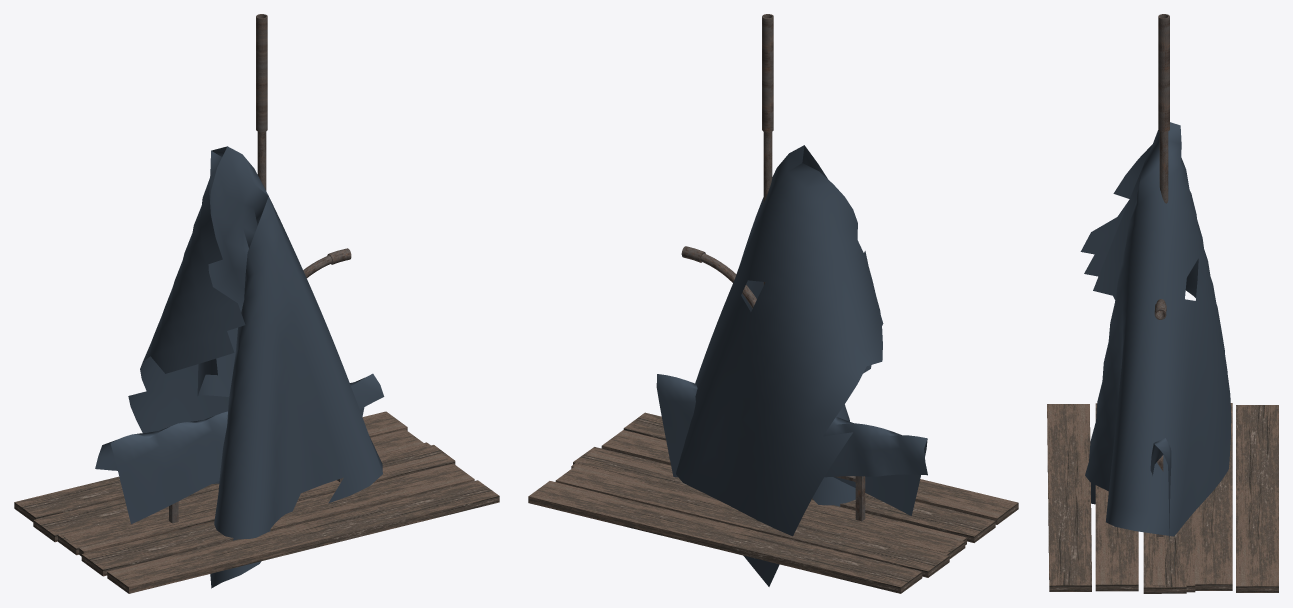
The model's file is Structured tower.fbx.
3 renders of one model, left to right at view 1: azimuth 30°, elevation 25°; view 2: azimuth 150°, elevation 25°; view 3: azimuth 270°, elevation 25°, orthographic.
Parts seen in each view (by area): view 1: Misc, Planks, Misc1, plank_1, Pole_1; view 2: Misc, Planks, Misc1, plank_1, Pole_1, Pole3; view 3: Misc, Planks, Pole_1, plank_1, Misc1.
Part boxes in pixels (left/top/right/bottom): Misc: left=128, top=146, right=382, bottom=588; Planks: left=14, top=411, right=499, bottom=593; Misc1: left=95, top=373, right=384, bottom=524; plank_1: left=58, top=442, right=447, bottom=555; Pole_1: left=256, top=14, right=267, bottom=190; Misc: left=669, top=145, right=883, bottom=586; Planks: left=528, top=412, right=1018, bottom=593; Misc1: left=656, top=374, right=927, bottom=515; plank_1: left=571, top=450, right=965, bottom=558; Pole_1: left=762, top=14, right=773, bottom=285; Pole3: left=681, top=246, right=756, bottom=308; Misc: left=1080, top=122, right=1231, bottom=536; Planks: left=1047, top=403, right=1278, bottom=593; Pole_1: left=1158, top=14, right=1169, bottom=203; plank_1: left=1152, top=517, right=1195, bottom=592; Misc1: left=1150, top=438, right=1171, bottom=540.
Bounding box in the file's own units: 130 × 179 × 69.39.
